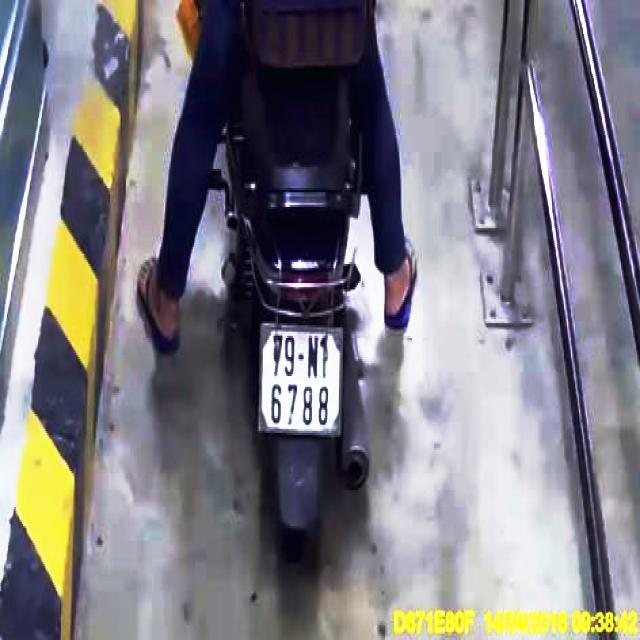license_plate: (262, 321, 345, 439)
